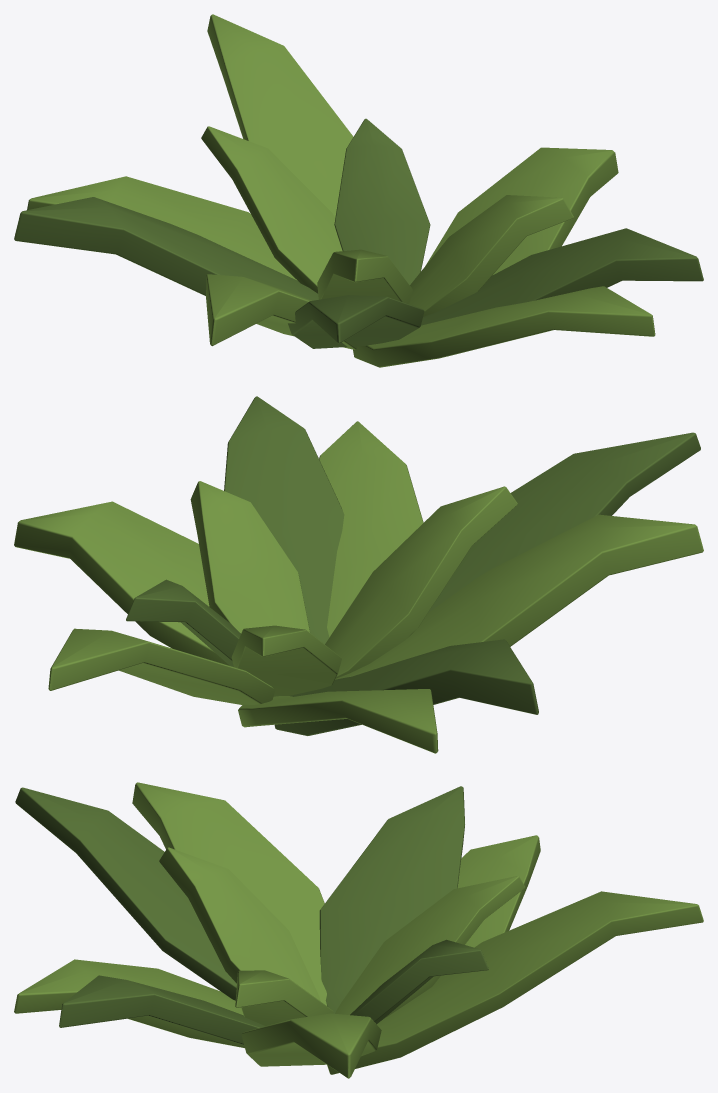
Rendered from grass_low_rosette.glb.
3 renders of one model, top to bottom at view 1: azimuth 30°, elevation 25°; view 2: azimuth 150°, elevation 25°; view 3: azimuth 270°, elevation 25°, orthographic. The views are drawn at different scales.
Visible parts, largest first — view 1: grass_low_rosette; view 2: grass_low_rosette; view 3: grass_low_rosette.
Part boxes in pixels (x1=…): grass_low_rosette: x1=14, y1=14, x2=703, y2=367; grass_low_rosette: x1=14, y1=396, x2=703, y2=753; grass_low_rosette: x1=14, y1=782, x2=703, y2=1078.
Size of the model in its own units: 0.3003 by 0.1008 by 0.3504.
